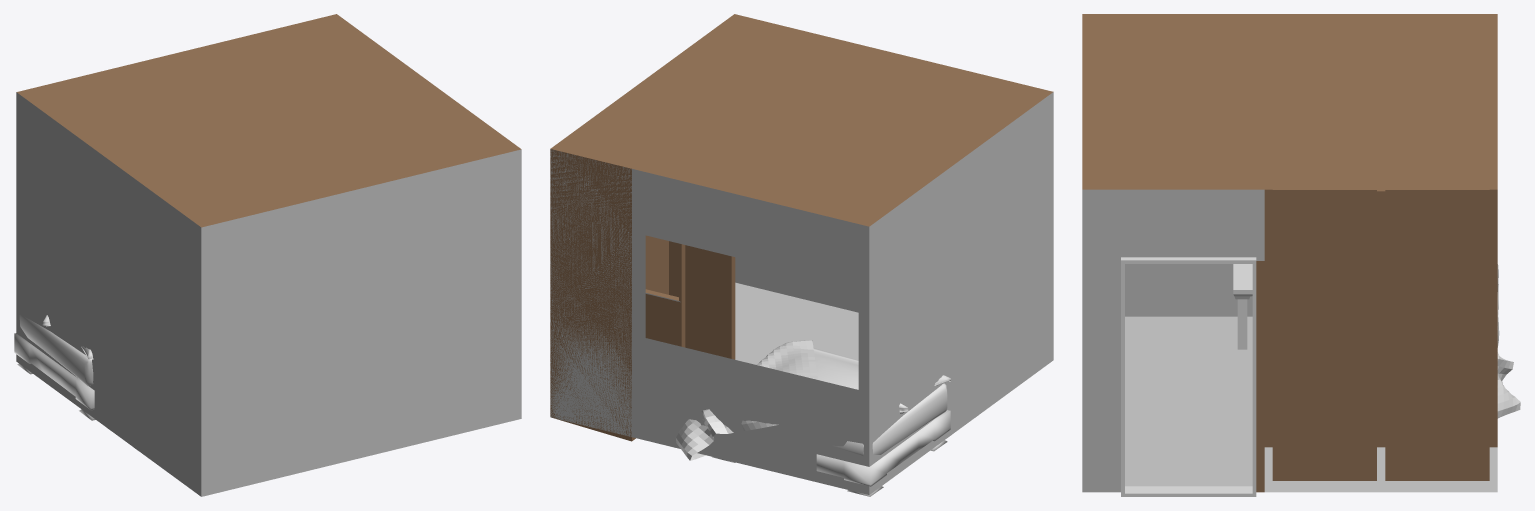
3 views of the same model, side by side, from view 1: azimuth 30°, elevation 25°; view 2: azimuth 150°, elevation 25°; view 3: azimuth 270°, elevation 25° (orthographic). The views are drawn at different scales.
Visible parts, largest first — view 1: Cube, Plane.001; view 2: Cube, Plane.001; view 3: Cube, Cube.001, Cube.002, Plane.001.
Boxes of the visible parts, left/top/right/bottom form: Cube: left=16, top=14, right=521, bottom=496; Plane.001: left=14, top=314, right=95, bottom=420; Cube: left=550, top=14, right=1053, bottom=494; Plane.001: left=675, top=340, right=950, bottom=496; Cube: left=1082, top=14, right=1497, bottom=492; Cube.001: left=1121, top=257, right=1256, bottom=496; Cube.002: left=1233, top=264, right=1252, bottom=349; Plane.001: left=1497, top=264, right=1520, bottom=418.
Size of the model in its own units: 812 by 642 by 825.
